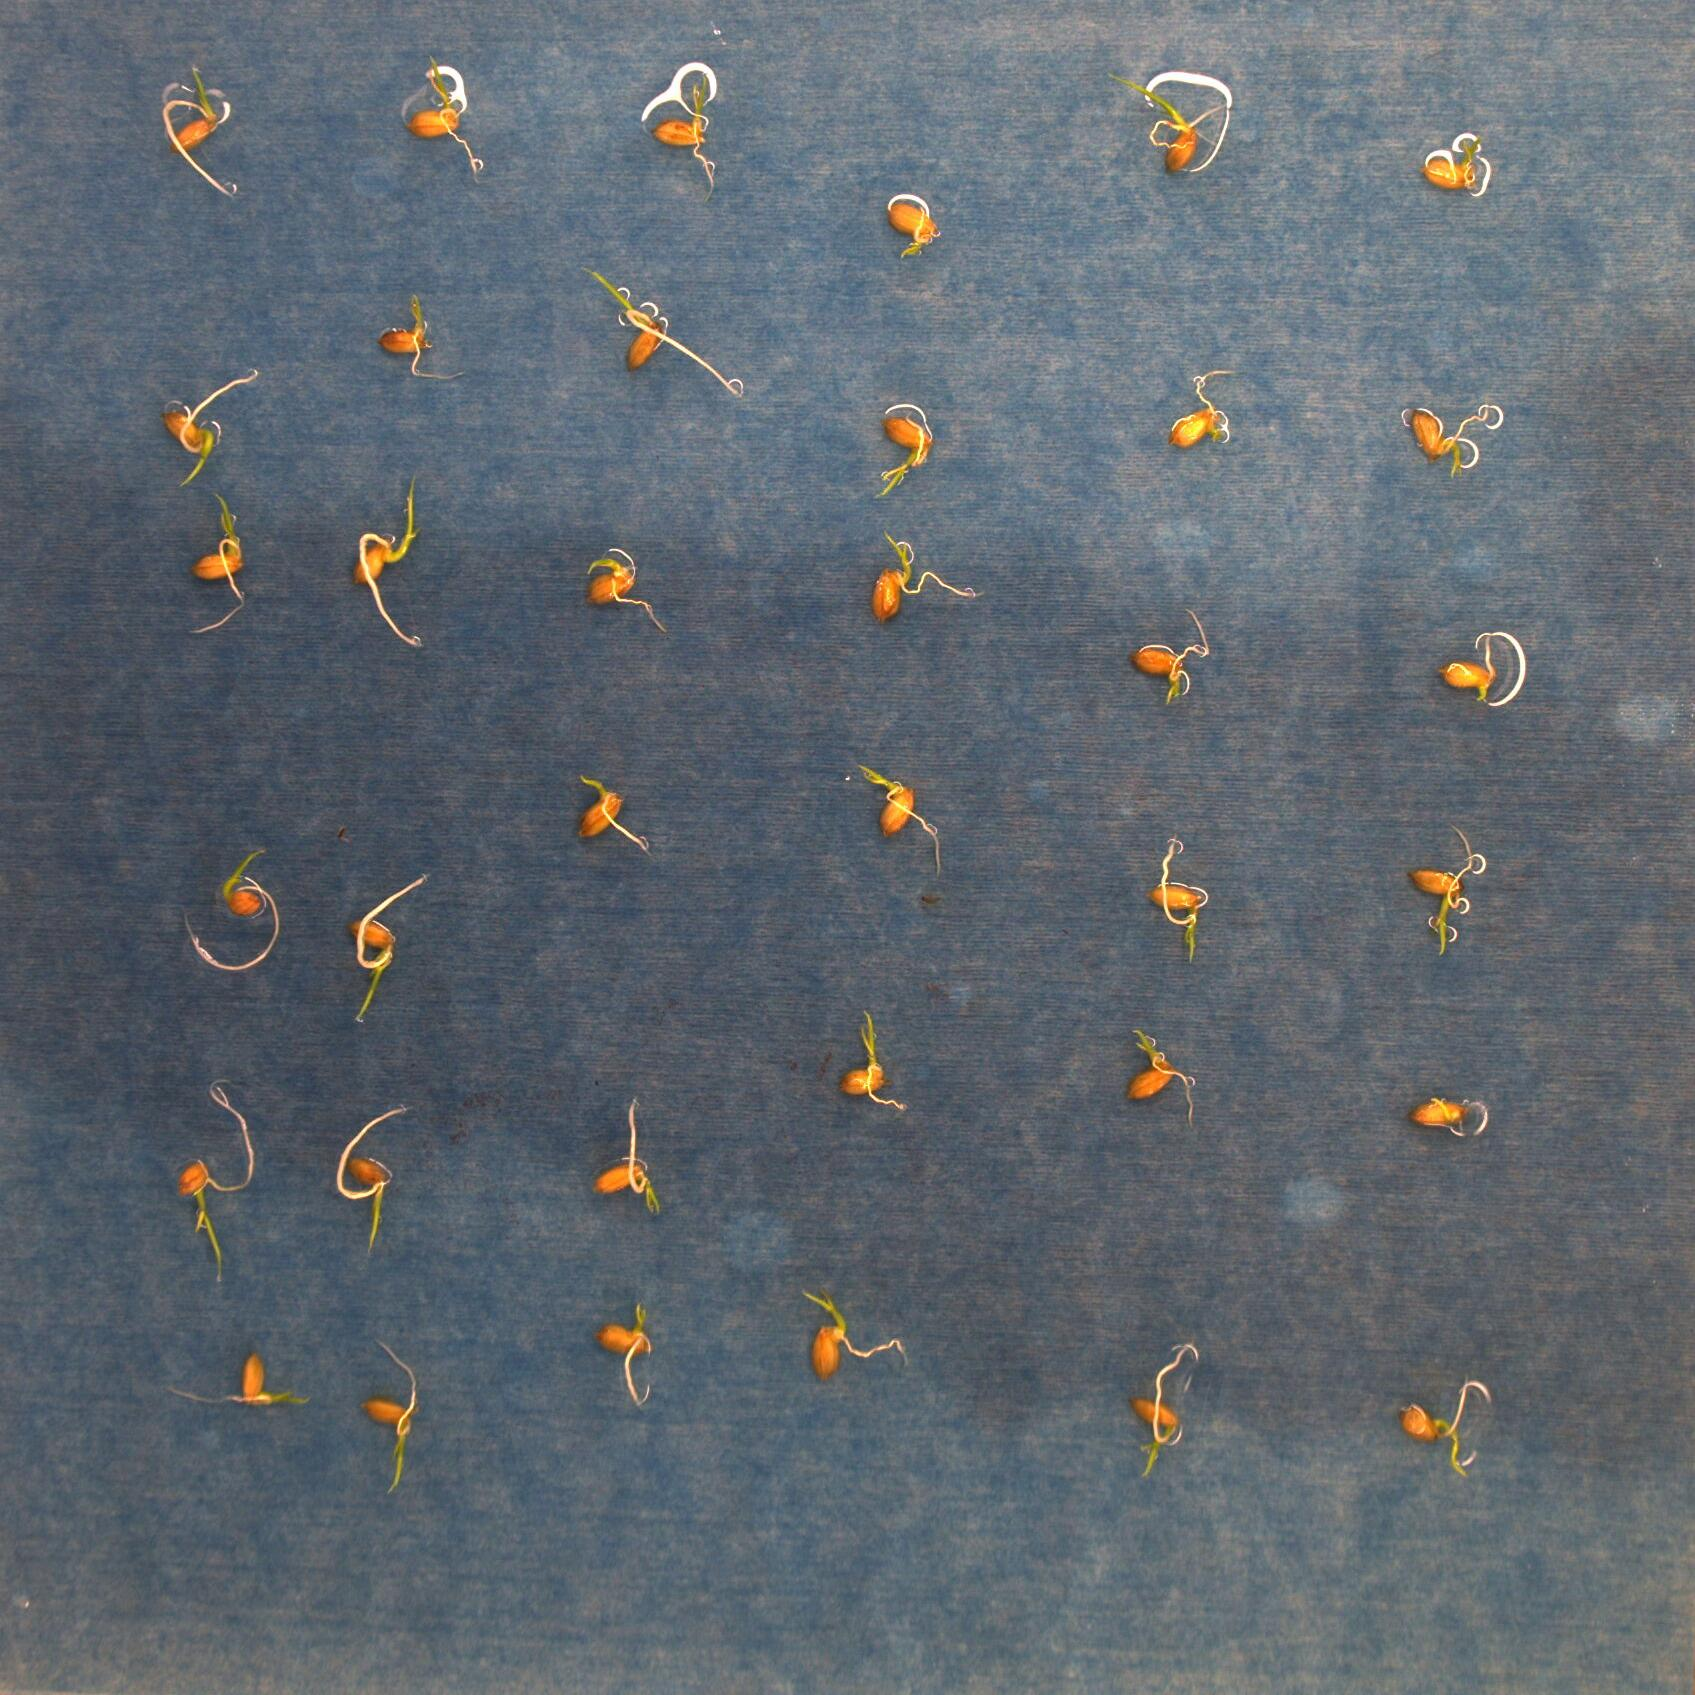not sprout: (1402, 396, 1495, 483), (875, 189, 944, 251), (1436, 643, 1509, 692), (1412, 143, 1475, 192), (227, 858, 276, 910), (1416, 1088, 1468, 1136)
sprout: (601, 270, 754, 407), (335, 487, 439, 649), (386, 54, 498, 189), (1118, 1340, 1217, 1487), (149, 1085, 241, 1245), (337, 879, 439, 1014), (155, 54, 247, 205), (787, 1287, 913, 1392), (861, 529, 986, 632), (160, 1343, 317, 1423), (175, 494, 262, 633), (1114, 1012, 1220, 1127), (357, 1338, 435, 1489), (140, 359, 245, 469), (1385, 1371, 1492, 1478), (369, 279, 464, 400), (1149, 70, 1257, 172), (865, 754, 967, 863), (834, 997, 922, 1122), (346, 1090, 422, 1232), (640, 78, 726, 200), (1146, 349, 1242, 459), (1142, 838, 1222, 970), (1402, 827, 1485, 948), (574, 529, 666, 627), (581, 1090, 658, 1200), (574, 771, 661, 868), (593, 1309, 669, 1416), (868, 397, 942, 503), (1128, 622, 1220, 700)
